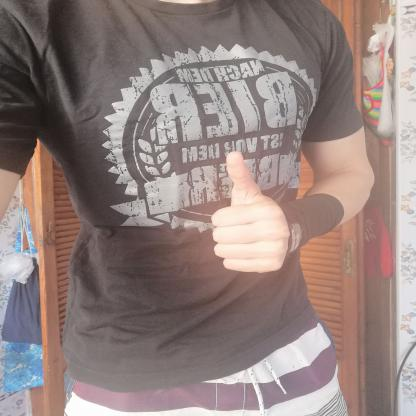ALIF: (192, 141, 306, 281)
